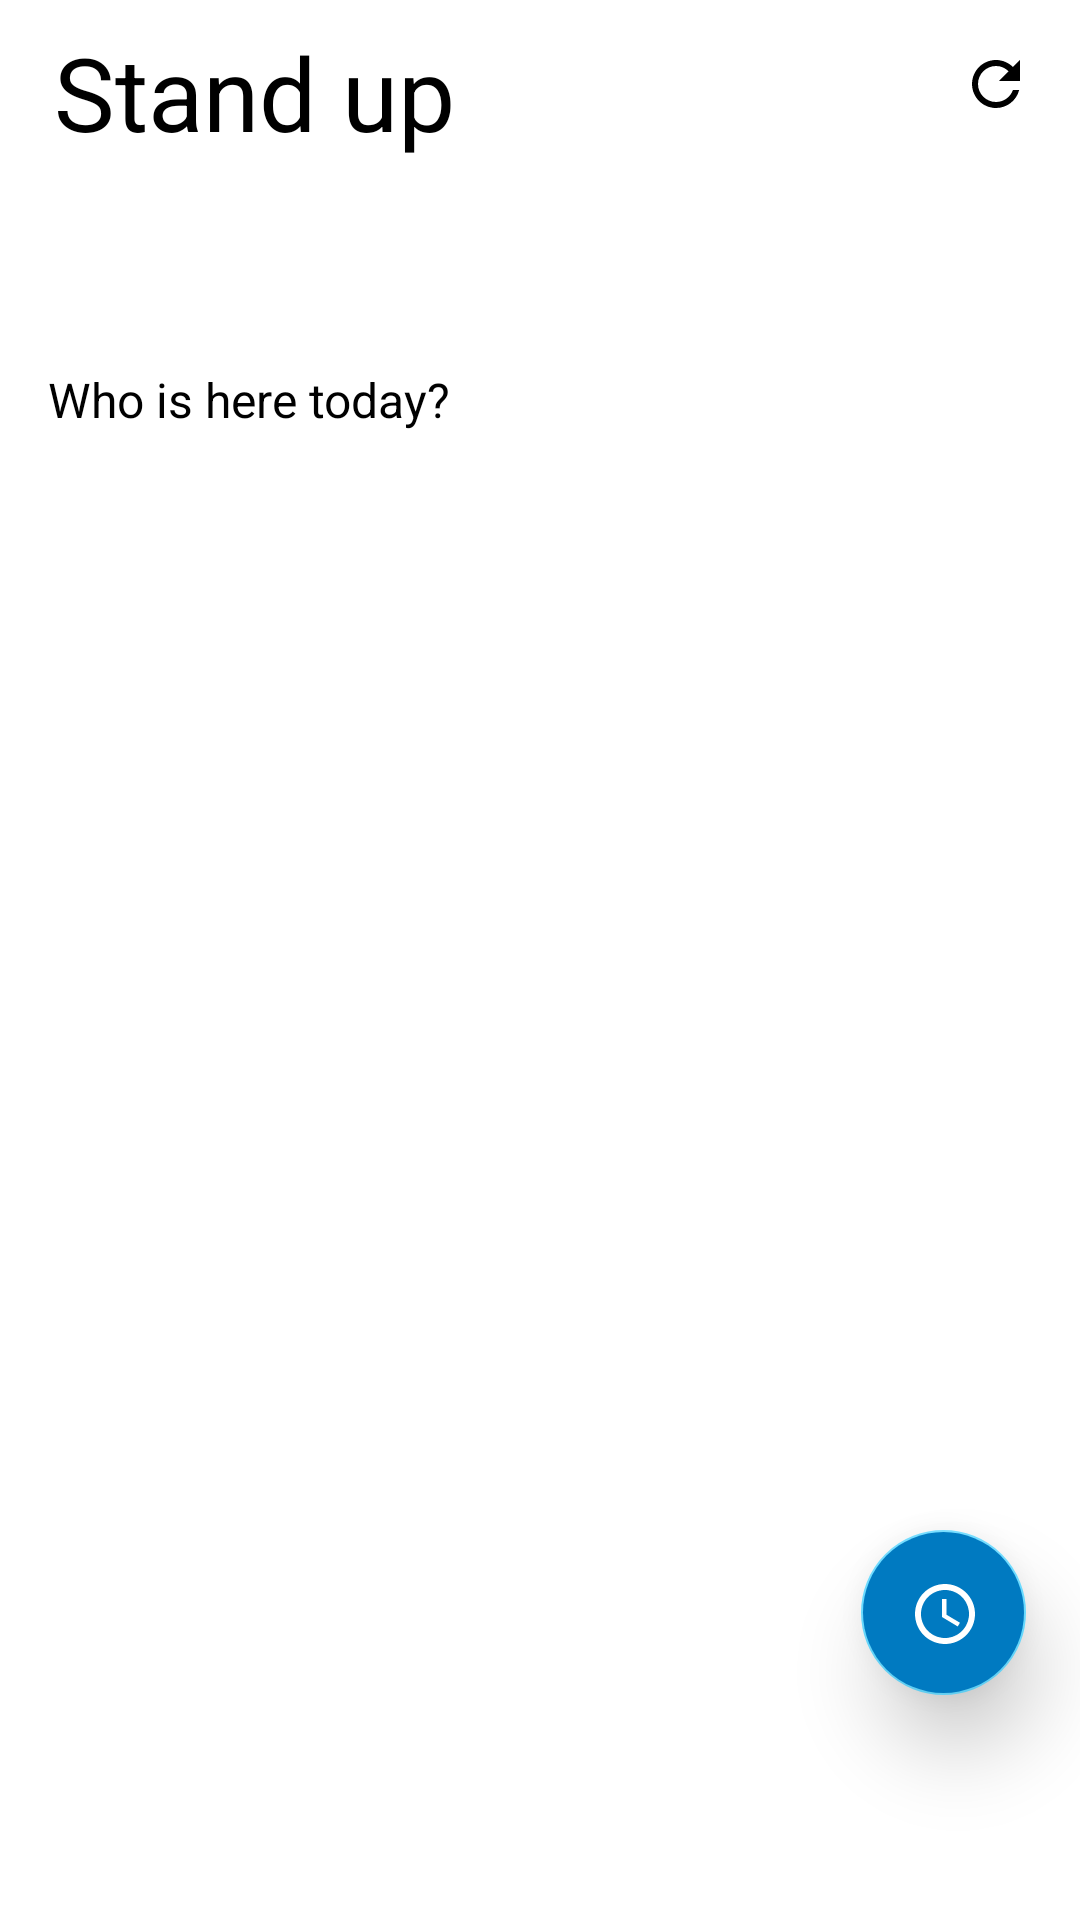

Locate icon controls on the screen. Image size 1080w x 1920h, boxes as (x1, y1, x2, y2).
refresh: (972, 60, 1020, 108)
timer: (861, 1530, 1026, 1695)
